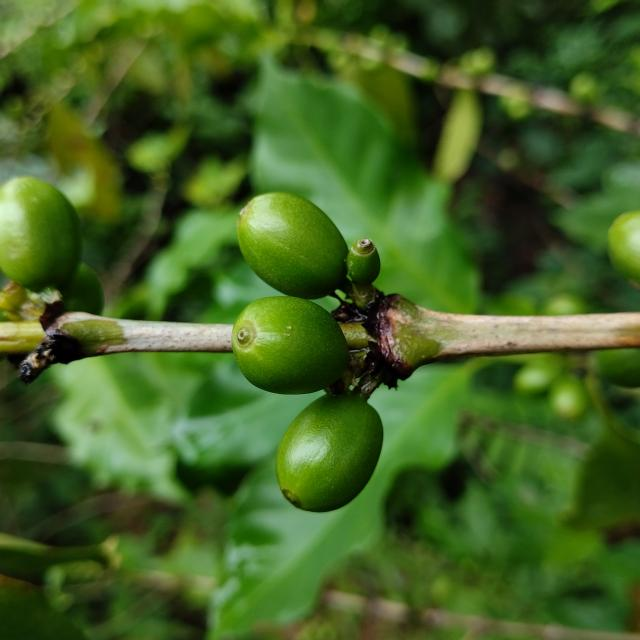green: (276, 392, 384, 513), (237, 192, 349, 299), (231, 296, 349, 395), (0, 176, 81, 290), (57, 262, 104, 315), (610, 211, 640, 283), (346, 238, 381, 285)
